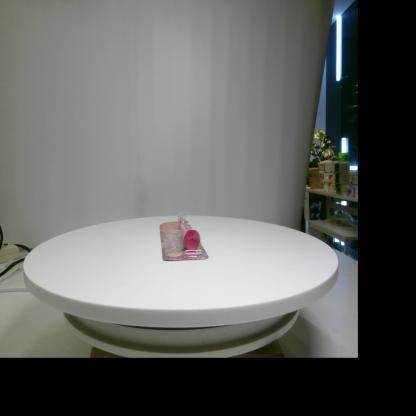Personal Hygiene: (159, 212, 209, 261)
